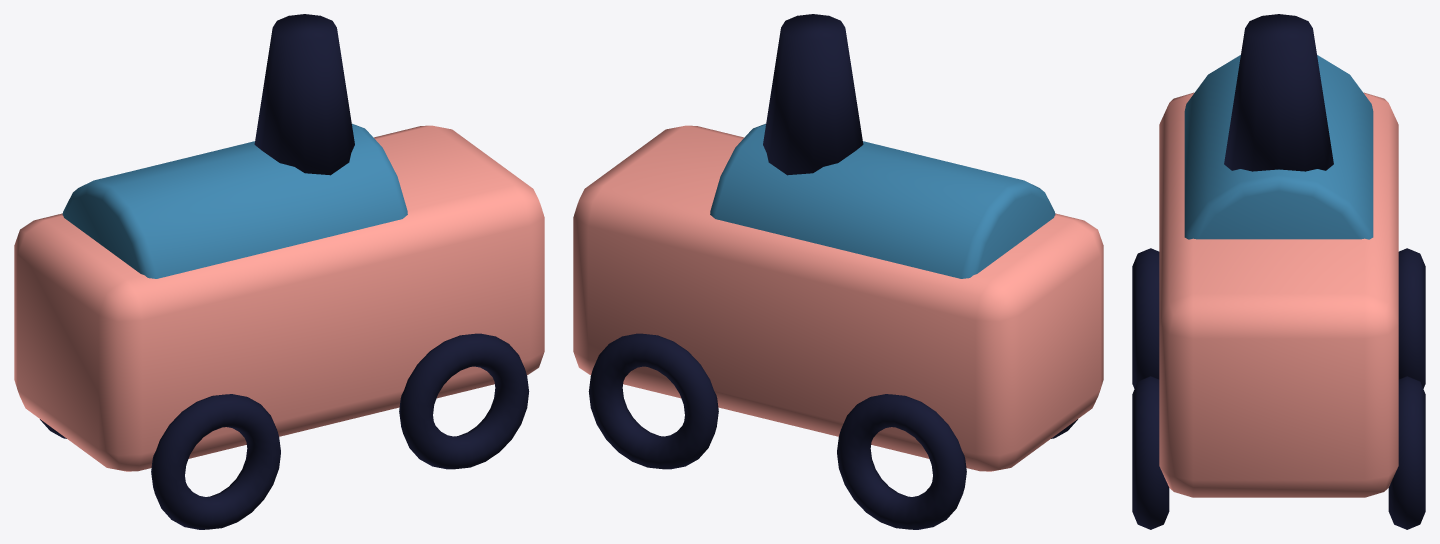
Rendered from r021_sky_lagoon_train_presentation_train_01.glb.
3 views of the same model, side by side, from view 1: azimuth 30°, elevation 25°; view 2: azimuth 150°, elevation 25°; view 3: azimuth 270°, elevation 25° (orthographic). The views are drawn at different scales.
Parts seen in each view (by area): view 1: r021_sky_lagoon_train_presentation_train_01.001; view 2: r021_sky_lagoon_train_presentation_train_01.001; view 3: r021_sky_lagoon_train_presentation_train_01.001.
Boxes of the visible parts, box(x1,y1,x2,y2) form: r021_sky_lagoon_train_presentation_train_01.001: box(14, 14, 544, 529); r021_sky_lagoon_train_presentation_train_01.001: box(573, 14, 1103, 529); r021_sky_lagoon_train_presentation_train_01.001: box(1132, 14, 1425, 529).
Bounding box in the file's own units: 3.5 × 3.17 × 1.9.
